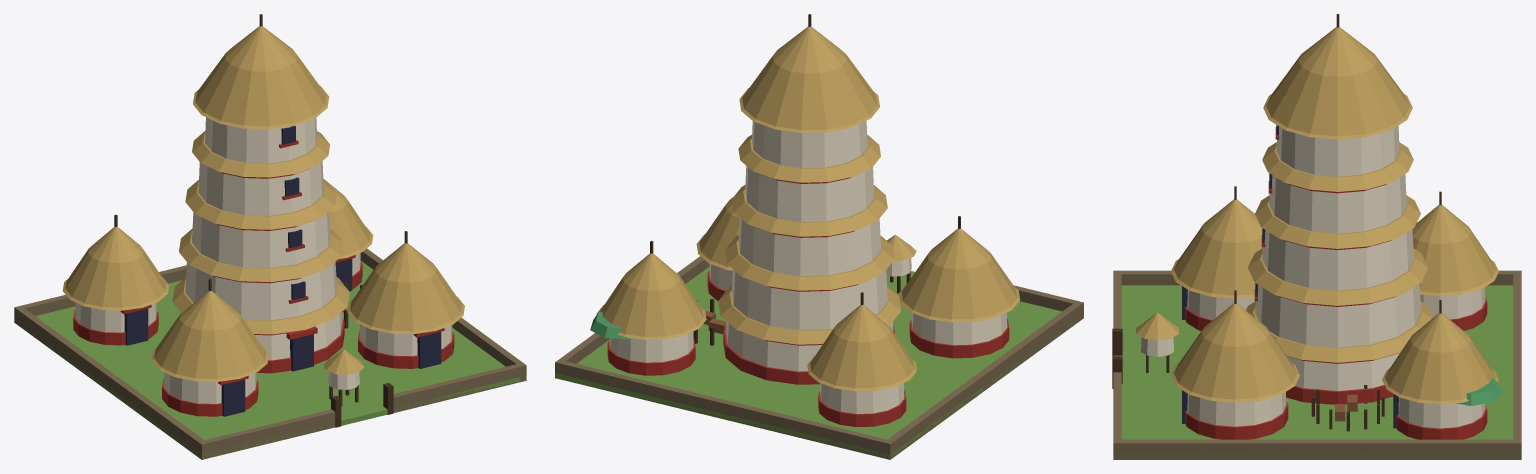
Rendered from house-2x2-5f-rondavel-a-solar.glb.
3 renders of one model, left to right at view 1: azimuth 30°, elevation 25°; view 2: azimuth 150°, elevation 25°; view 3: azimuth 270°, elevation 25°, orthographic. The views are drawn at different scales.
Visible parts, largest first — view 1: house-2x2-5f-rondavel-a-solar; view 2: house-2x2-5f-rondavel-a-solar; view 3: house-2x2-5f-rondavel-a-solar.
Part boxes in pixels (left/top/right/bottom): house-2x2-5f-rondavel-a-solar: left=14, top=14, right=526, bottom=459; house-2x2-5f-rondavel-a-solar: left=555, top=14, right=1083, bottom=459; house-2x2-5f-rondavel-a-solar: left=1112, top=14, right=1521, bottom=459.
Size of the model in its own units: 1.99 by 1.93 by 2.
Materials: 1 (1 with a texture image).
